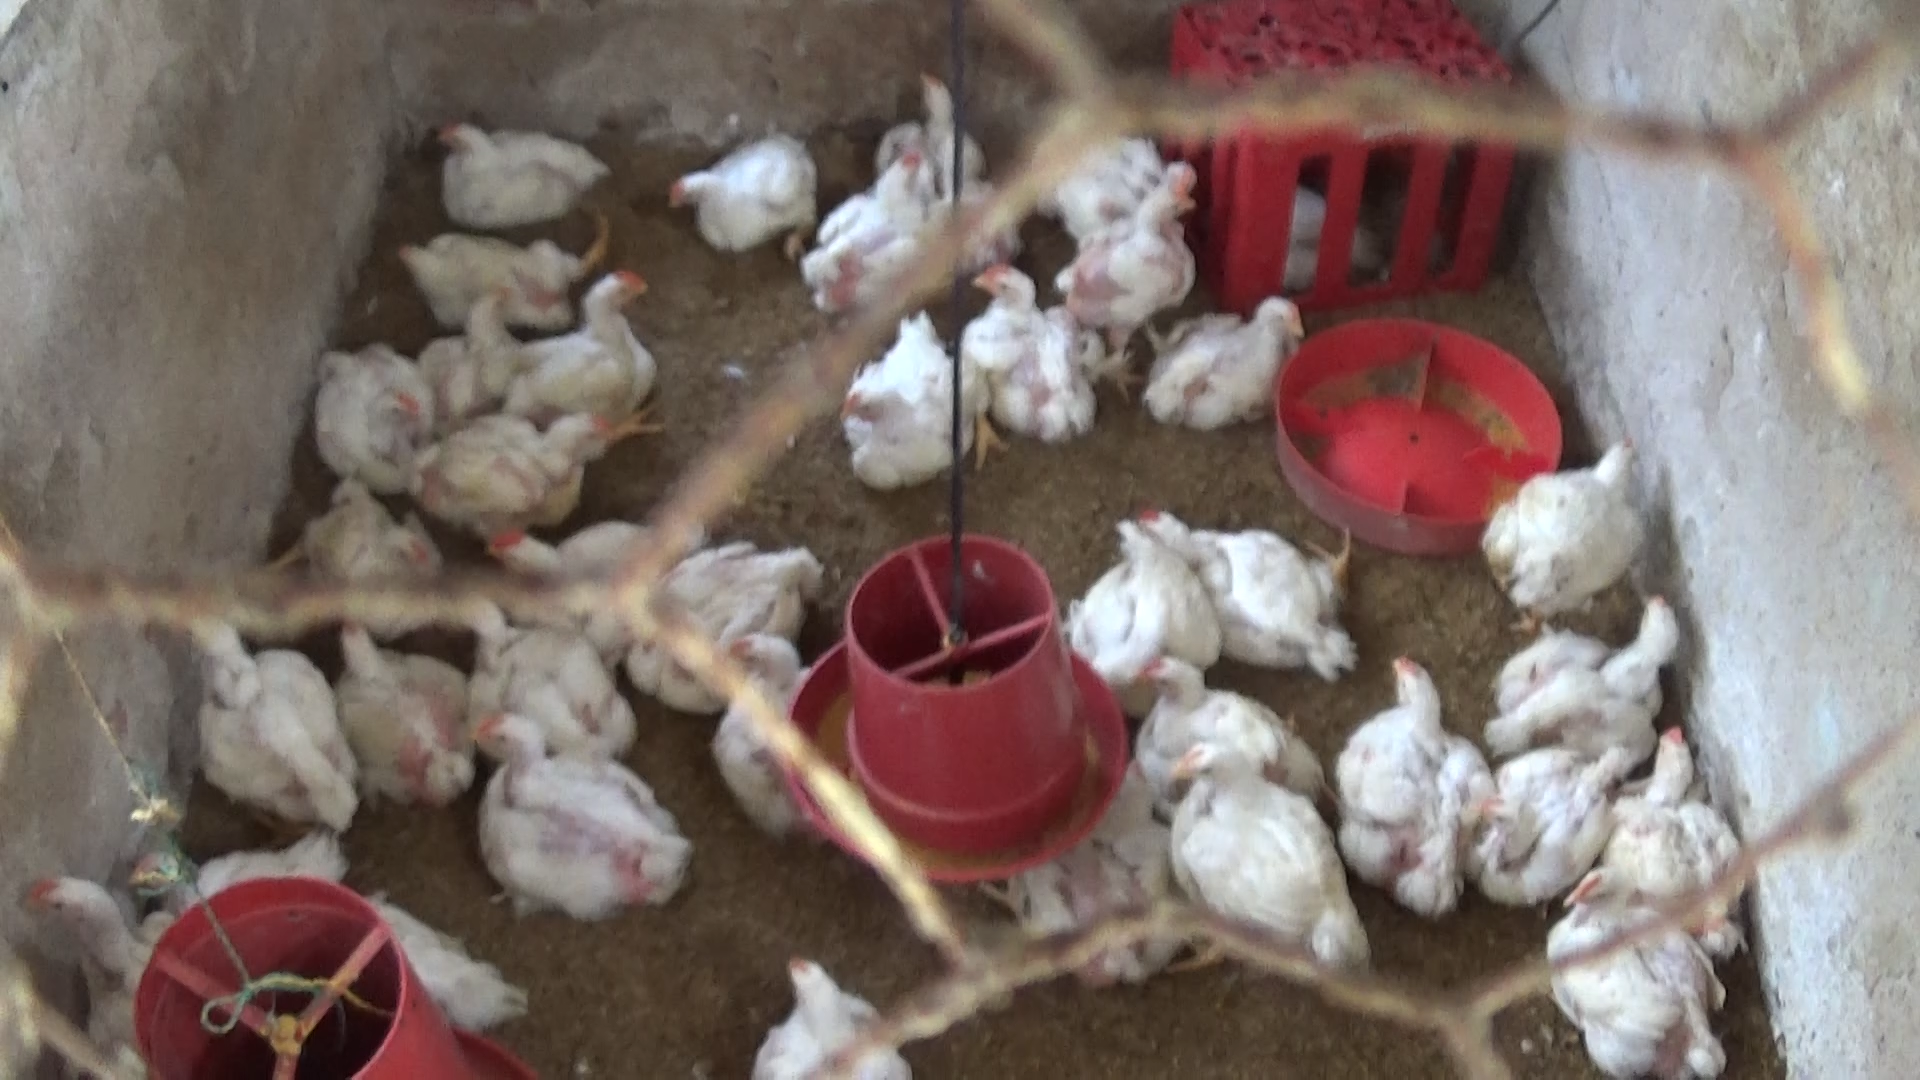Pollos: (451, 705, 688, 927), (1160, 738, 1367, 963), (161, 608, 353, 848), (1536, 857, 1735, 1077), (1341, 640, 1490, 911), (1145, 487, 1375, 658), (1474, 717, 1658, 905), (1613, 723, 1762, 948), (612, 520, 825, 676), (1484, 589, 1692, 744), (1486, 431, 1648, 628), (315, 615, 473, 803), (1124, 651, 1316, 800), (454, 592, 628, 756), (407, 396, 630, 522), (1060, 520, 1222, 684), (1130, 291, 1323, 429), (1054, 171, 1205, 338), (526, 266, 675, 431), (957, 266, 1095, 444), (837, 305, 971, 487), (707, 603, 816, 822), (309, 324, 444, 495), (741, 948, 915, 1080), (18, 847, 148, 1021), (796, 137, 934, 295), (381, 222, 616, 314), (417, 109, 603, 223), (665, 119, 814, 251), (415, 282, 549, 411), (884, 69, 988, 187)
